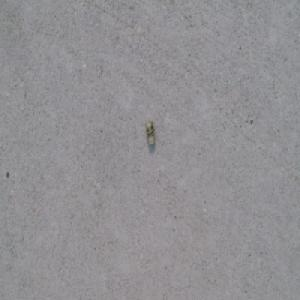BoltNutSet: (145, 120, 155, 146)
